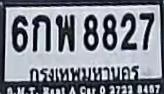2: (120, 13, 136, 50)
6: (11, 15, 27, 52)
7: (139, 12, 153, 49)
8: (103, 14, 117, 50), (84, 14, 98, 50)
A01: (32, 15, 51, 52)
A30: (55, 14, 76, 52)
BKK: (25, 58, 142, 82)
